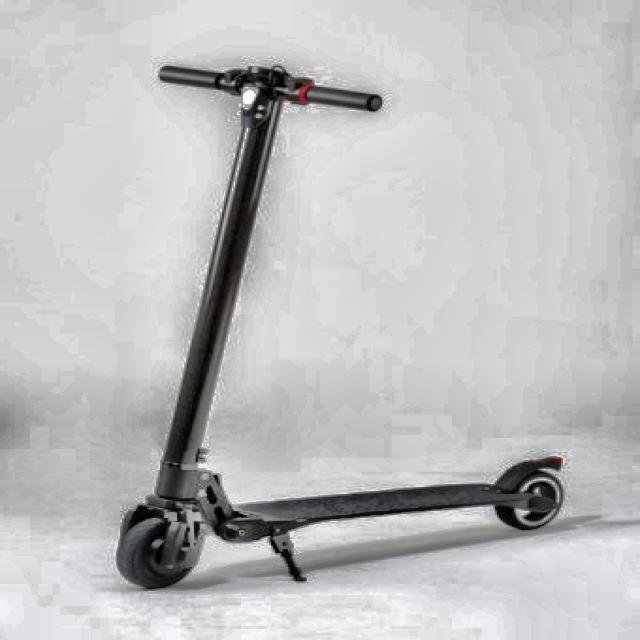bike: (112, 57, 568, 593)
